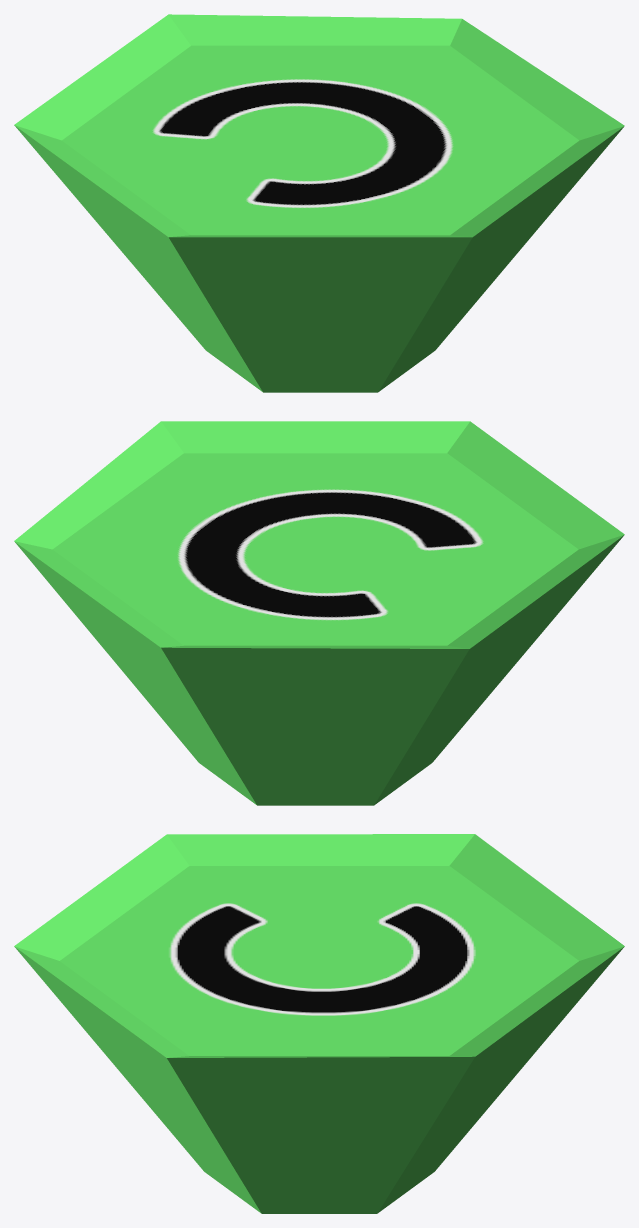
File: Char.fbx
The picture shows the model from 3 angles, top to bottom: view 1: azimuth 30°, elevation 25°; view 2: azimuth 150°, elevation 25°; view 3: azimuth 270°, elevation 25°; orthographic projection.
Visible parts, largest first — view 1: Char Tile; view 2: Char Tile; view 3: Char Tile.
Part boxes in pixels (x1=…): Char Tile: x1=14, y1=14, x2=624, y2=392; Char Tile: x1=14, y1=421, x2=624, y2=805; Char Tile: x1=14, y1=834, x2=624, y2=1213.
Bounding box in the file's own units: 426 × 200 × 491.
